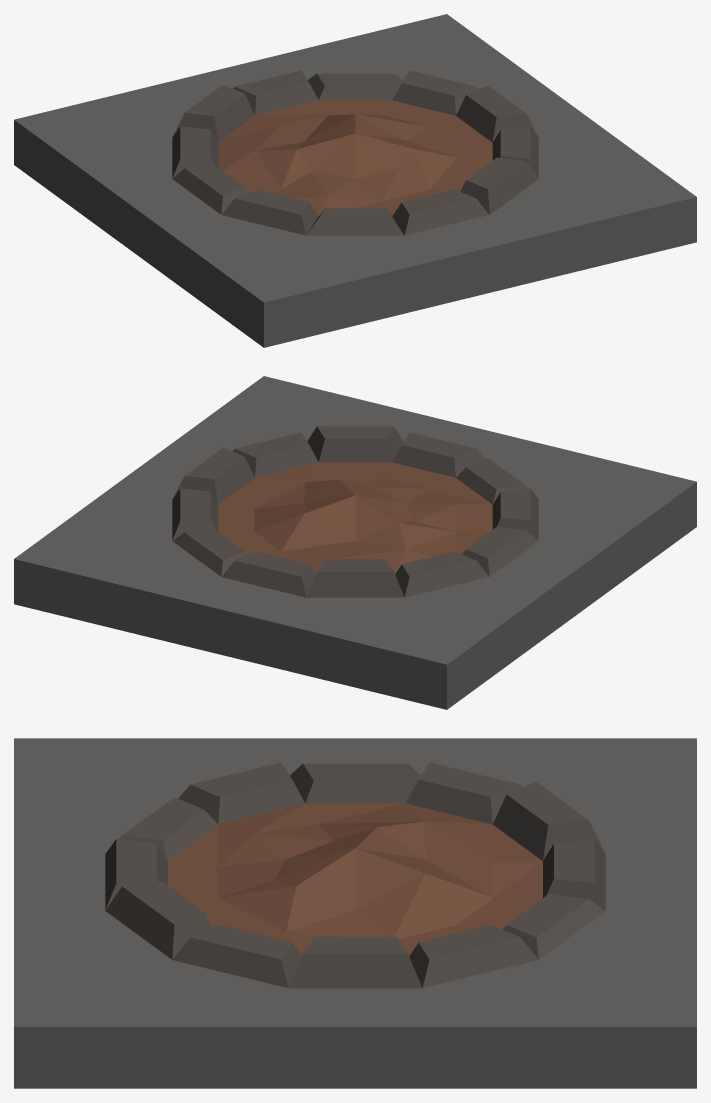
File: Paved2x2Planter1.fbx
3 views of the same model, one above another, from view 1: azimuth 30°, elevation 25°; view 2: azimuth 150°, elevation 25°; view 3: azimuth 270°, elevation 25° (orthographic). The views are drawn at different scales.
Visible parts, largest first — view 1: Paved2x2Planter1; view 2: Paved2x2Planter1; view 3: Paved2x2Planter1.
Boxes of the visible parts, x1,y1,x2,y2 form: Paved2x2Planter1: (14,14,696,347); Paved2x2Planter1: (14,376,696,709); Paved2x2Planter1: (14,738,696,1088).
Size of the model in its own units: 200 by 31.04 by 200.
